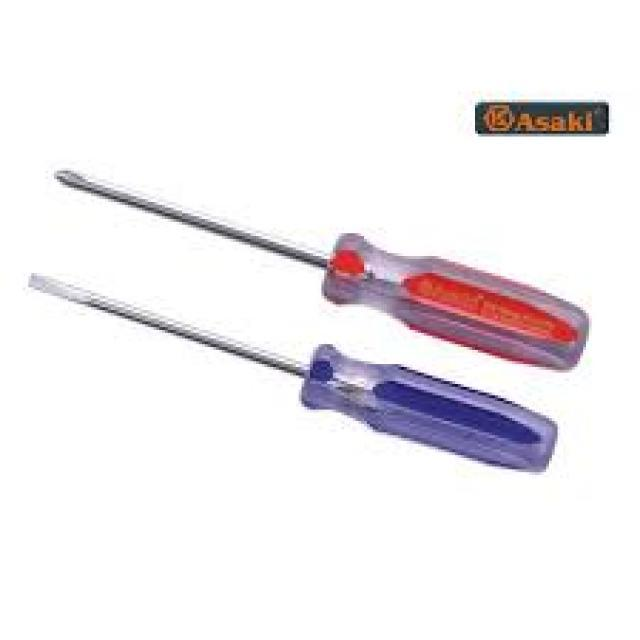screwdriver: (49, 166, 590, 380), (27, 270, 559, 475)
